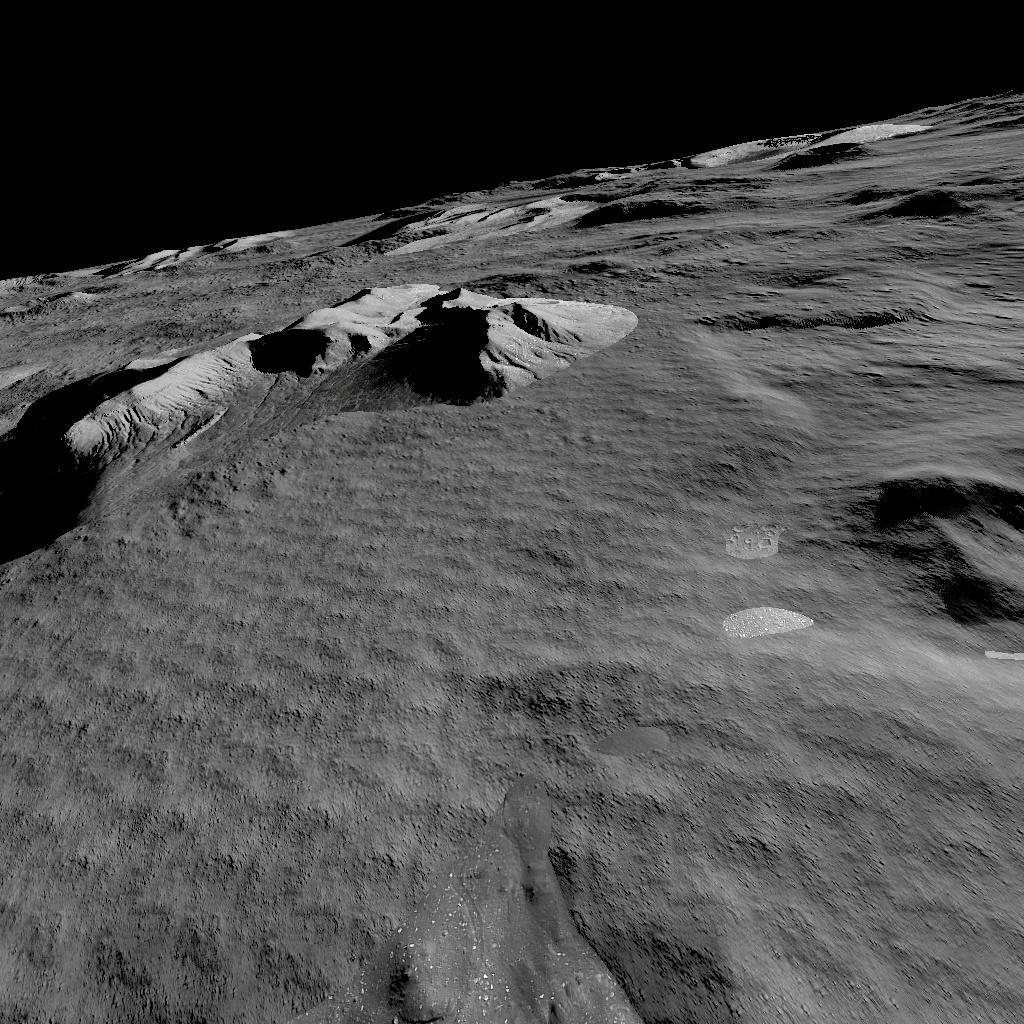Boulders: (7, 279, 641, 535), (371, 106, 1017, 254), (108, 220, 316, 266)
Crater: (0, 912, 1024, 1024), (843, 454, 1024, 626), (678, 288, 936, 356)
Plan surface: (4, 573, 818, 868)
